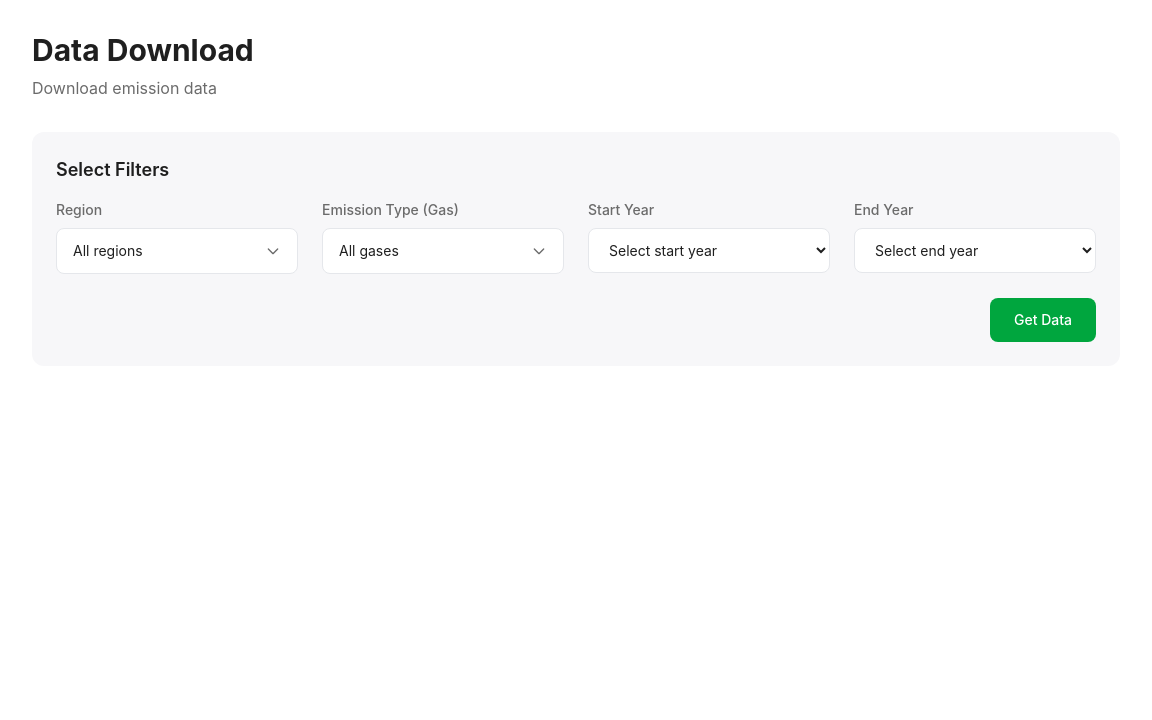
Frontend data download page › shows a validation error when start year exceeds end year
The image size is (1152, 720).
Select "2025" in the dropdown below "Start Year" at point(709, 250), box [588, 228, 830, 273]
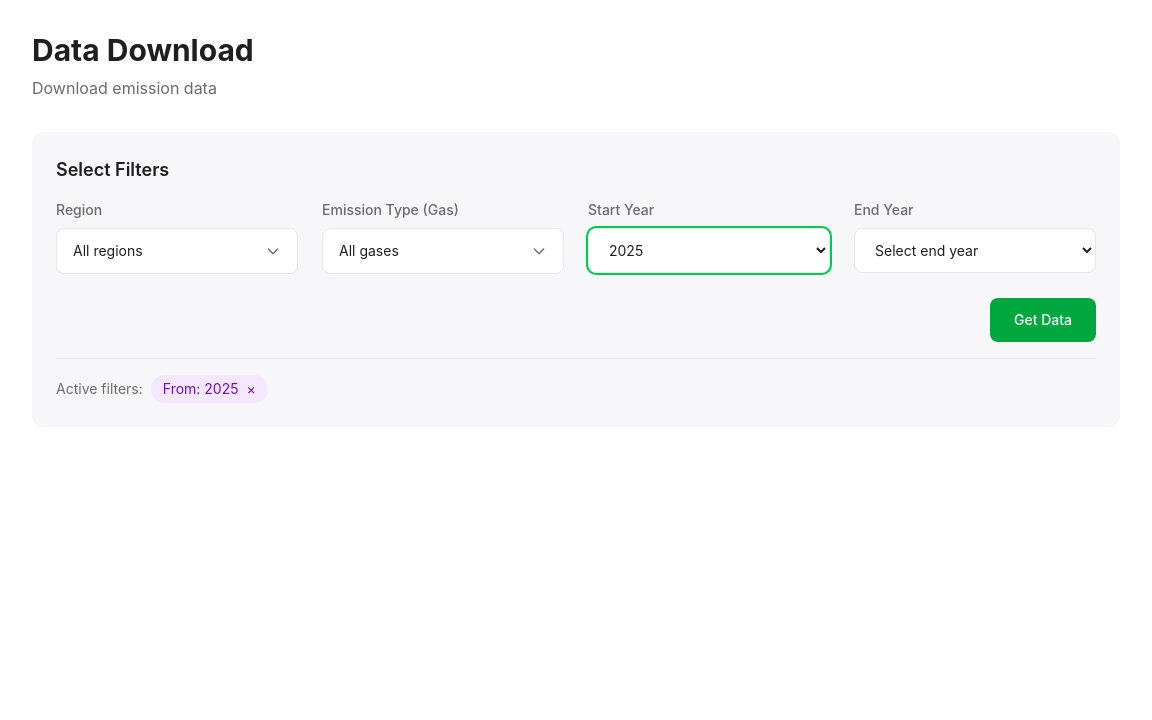
Select "2020" in the dropdown below "End Year" at point(975, 250), box [854, 228, 1096, 273]
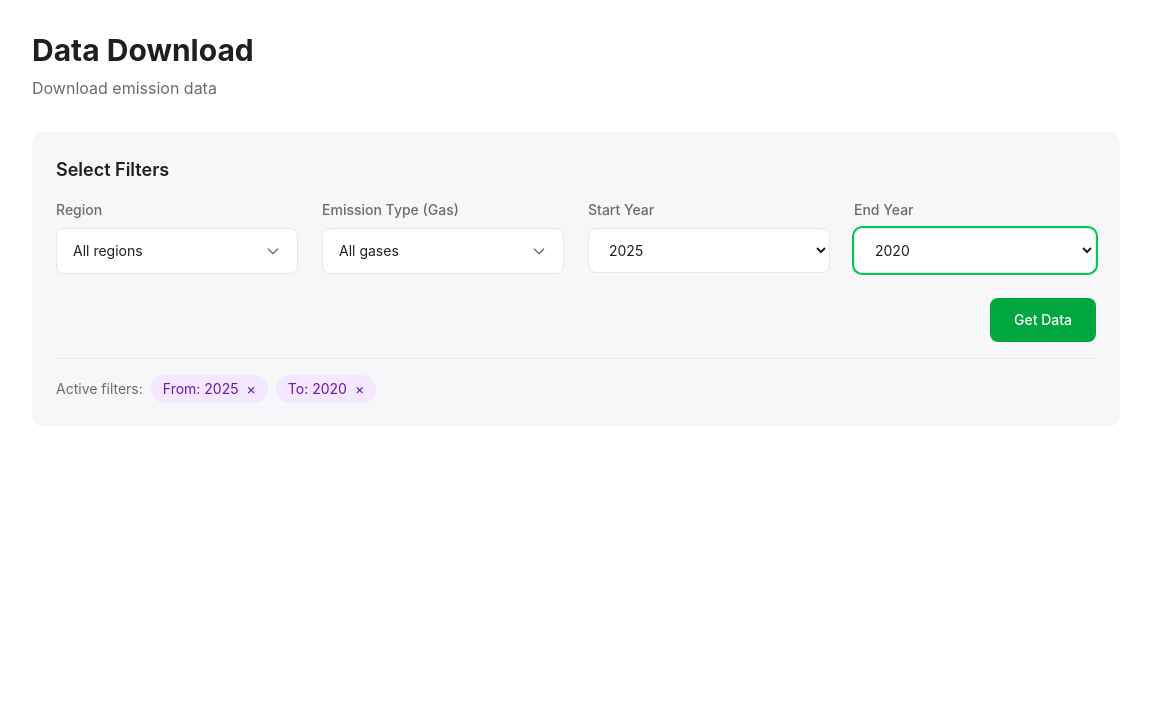
Click the button "Get Data".
click(1043, 320)  # box [990, 298, 1096, 342]
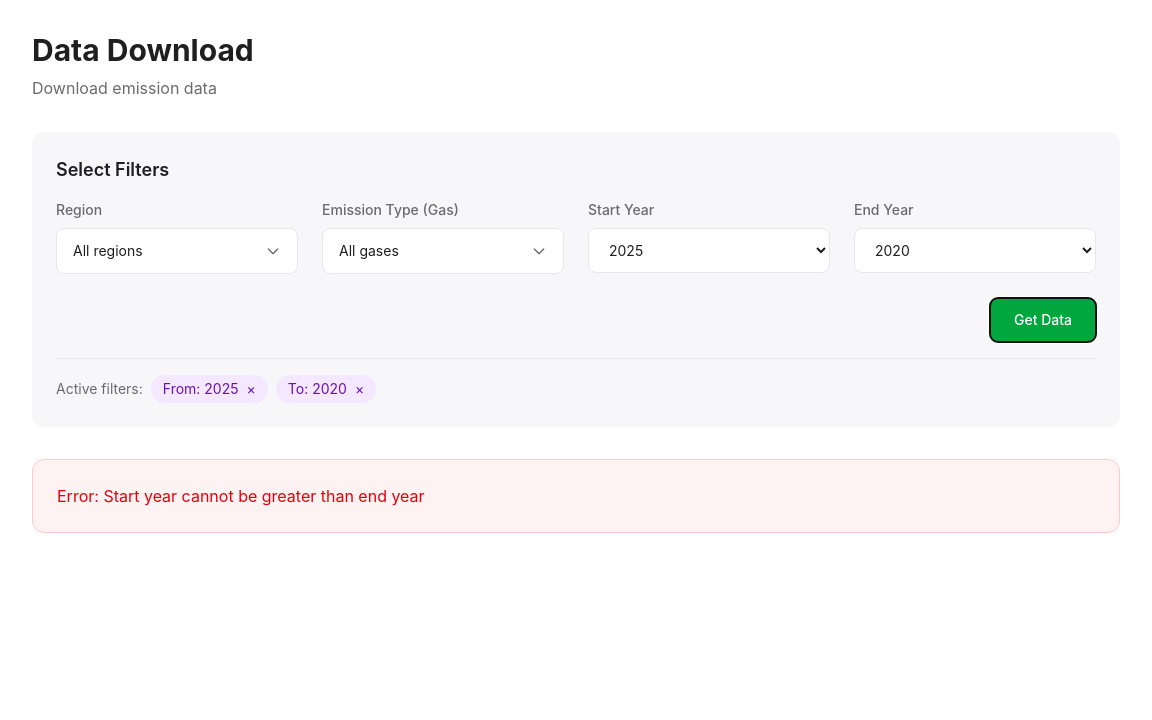
Expected: the text "Error: Start year cannot be greater than end year" is shown, [57, 486, 425, 506]
